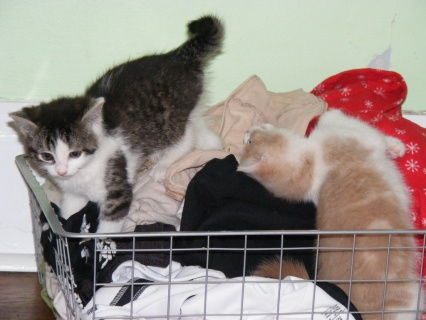Cat: (7, 13, 225, 239), (235, 107, 408, 318)
